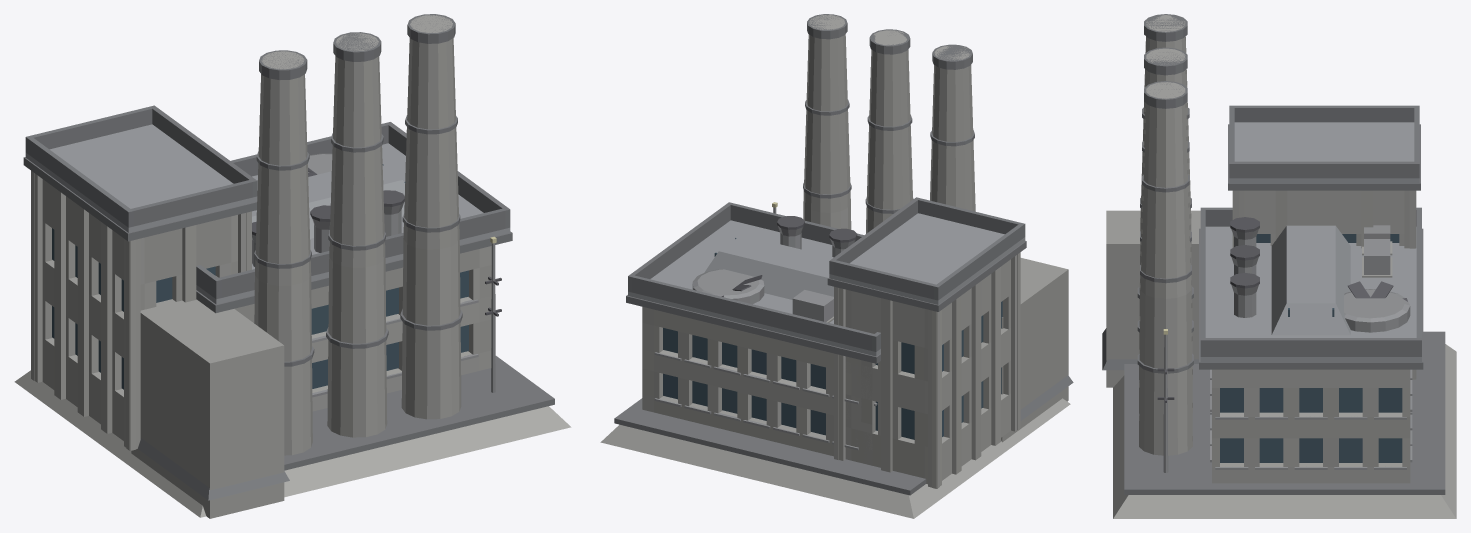
Rendered from soviet_power.glb.
The picture shows the model from 3 angles, left to right: view 1: azimuth 30°, elevation 25°; view 2: azimuth 150°, elevation 25°; view 3: azimuth 270°, elevation 25°; orthographic projection. The views are drawn at different scales.
Parts seen in each view (by area): view 1: bunker, stack_c, stack_r, stack_l, boiler_ribs, boiler_wall, plinth, boiler_deck, boiler_parapet, plinth_cap, hall_wall, hall_parapet (+8 smaller); view 2: hall_wall, boiler_wall, boiler_ribs, plinth, stack_r, stack_c, hall_parapet, bunker, boiler_deck, stack_l, plinth_cap, boiler_parapet (+10 smaller); view 3: stack_r, hall_wall, plinth_cap, plinth, hall_deck, mon_monitor, boiler_deck, boiler_parapet, bunker, hall_parapet, hall_glass, boiler_wall (+11 smaller).
Boxes of the visible parts, x1,y1,x2,y2 form: bunker: [131, 299, 289, 518]; stack_c: [326, 32, 388, 437]; stack_r: [400, 14, 462, 419]; stack_l: [254, 50, 314, 455]; boiler_ribs: [31, 171, 251, 450]; boiler_wall: [42, 179, 237, 440]; plinth: [14, 370, 571, 517]; boiler_deck: [25, 124, 257, 232]; boiler_parapet: [25, 105, 257, 227]; plinth_cap: [284, 356, 554, 470]; hall_wall: [234, 246, 491, 411]; hall_parapet: [196, 122, 510, 299]; hall_wall: [642, 307, 875, 465]; boiler_wall: [845, 259, 1010, 484]; boiler_ribs: [834, 252, 1020, 488]; plinth: [600, 398, 1070, 518]; stack_r: [803, 14, 851, 229]; stack_c: [865, 29, 913, 233]; hall_parapet: [628, 202, 880, 351]; bunker: [1001, 258, 1073, 442]; boiler_deck: [829, 213, 1025, 304]; stack_l: [930, 44, 975, 211]; plinth_cap: [614, 398, 926, 495]; boiler_parapet: [829, 197, 1025, 300]; stack_r: [1137, 81, 1193, 455]; hall_wall: [1212, 369, 1410, 483]; plinth_cap: [1124, 331, 1445, 494]; plinth: [1113, 344, 1456, 518]; hall_deck: [1200, 226, 1421, 361]; mon_monitor: [1271, 225, 1350, 335]; boiler_deck: [1229, 122, 1419, 182]; boiler_parapet: [1229, 105, 1419, 178]; bunker: [1102, 210, 1200, 387]; hall_parapet: [1200, 207, 1421, 356]; hall_glass: [1220, 388, 1402, 462]; boiler_wall: [1244, 190, 1404, 245].
Size of the model in its own units: 30.8 by 31.6 by 26.8.
